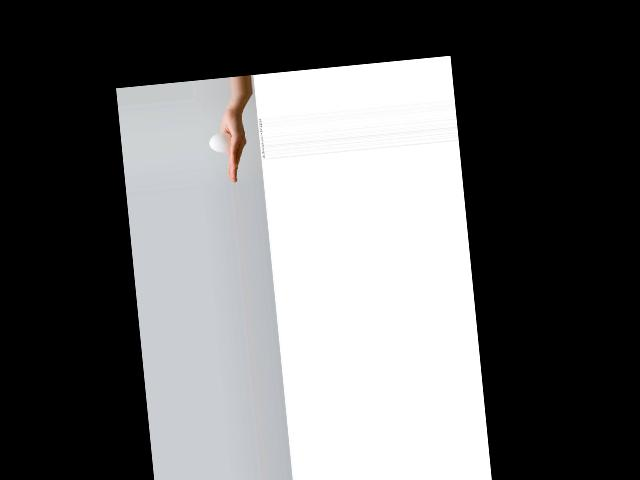egg: (208, 132, 233, 153)
